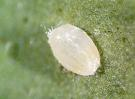whitefly: (42, 21, 104, 78)
